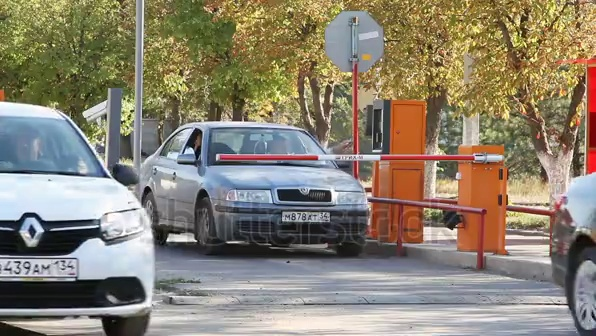licenseplate: (1, 255, 81, 283), (278, 209, 333, 225)
